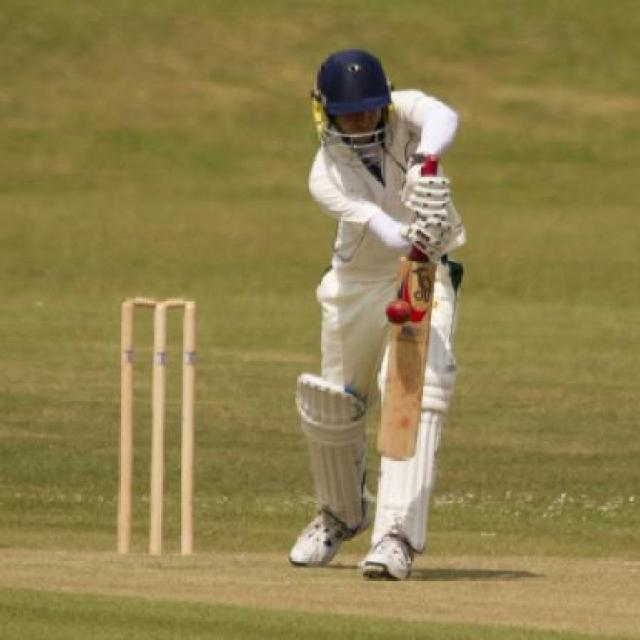-: (371, 288, 424, 337)
